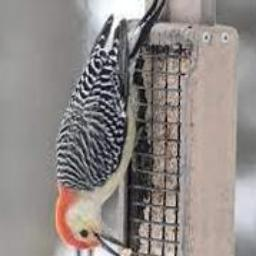Woodpecker: (56, 0, 170, 256)
